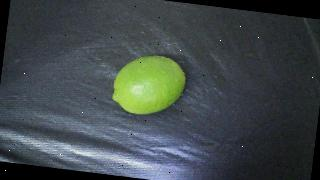LOCAL: (111, 51, 188, 119)
